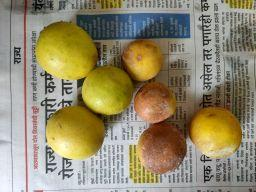lemon: (35, 20, 99, 80), (45, 105, 104, 160), (189, 105, 241, 160), (81, 65, 134, 116), (137, 123, 187, 175), (133, 81, 177, 124), (121, 38, 163, 82)
